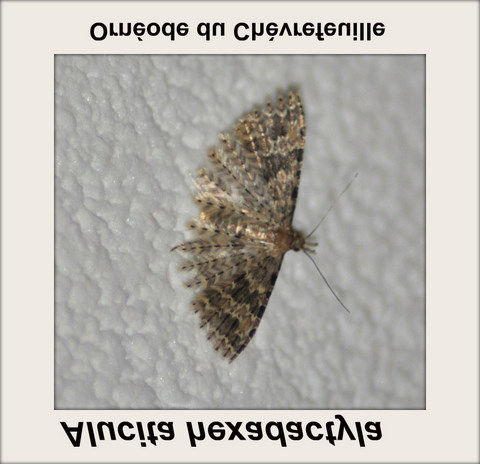Alucitidae: (161, 88, 363, 362)
moth: (163, 90, 365, 364)
